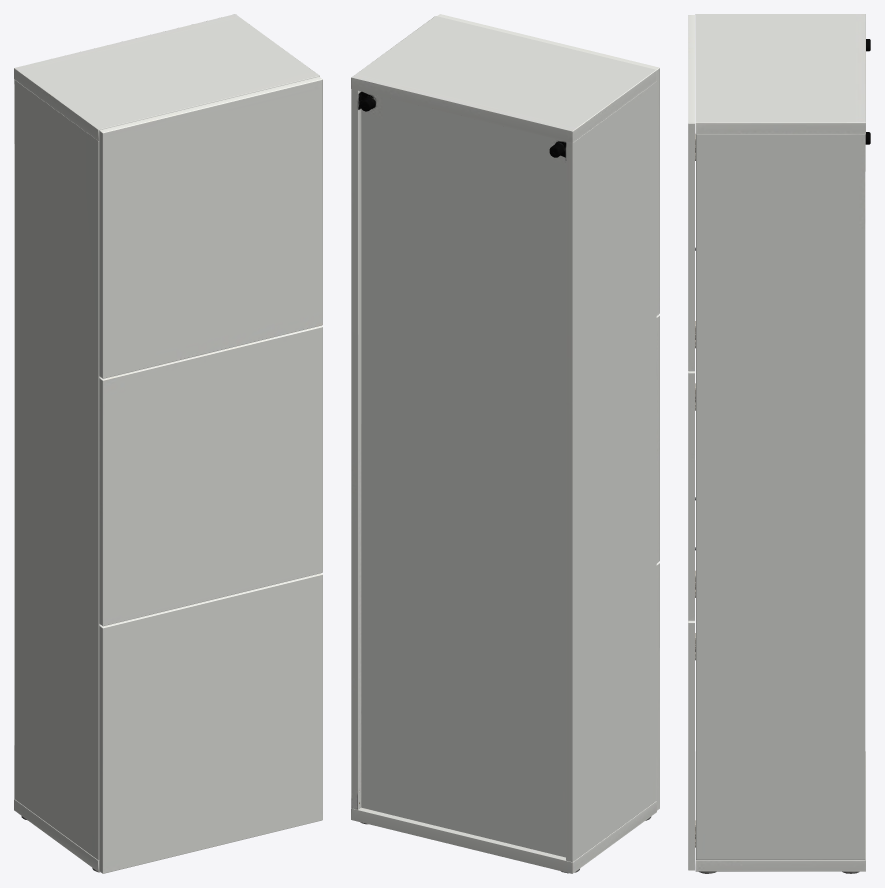
The model's file is besta_szafka_z_drzwiczkami_39429699.glb.
3 renders of one model, left to right at view 1: azimuth 30°, elevation 25°; view 2: azimuth 150°, elevation 25°; view 3: azimuth 270°, elevation 25°, orthographic.
Visible parts, largest first — view 1: besta_szafka_z_drzwiczkami_39429699; view 2: besta_szafka_z_drzwiczkami_39429699; view 3: besta_szafka_z_drzwiczkami_39429699.
Part boxes in pixels (<box>): besta_szafka_z_drzwiczkami_39429699: <box>14,14,322,873</box>; besta_szafka_z_drzwiczkami_39429699: <box>351,14,659,873</box>; besta_szafka_z_drzwiczkami_39429699: <box>688,14,870,873</box>.
Bounding box in the file's own units: 0.6 × 1.93 × 0.424.
1 material, 1 textured.
